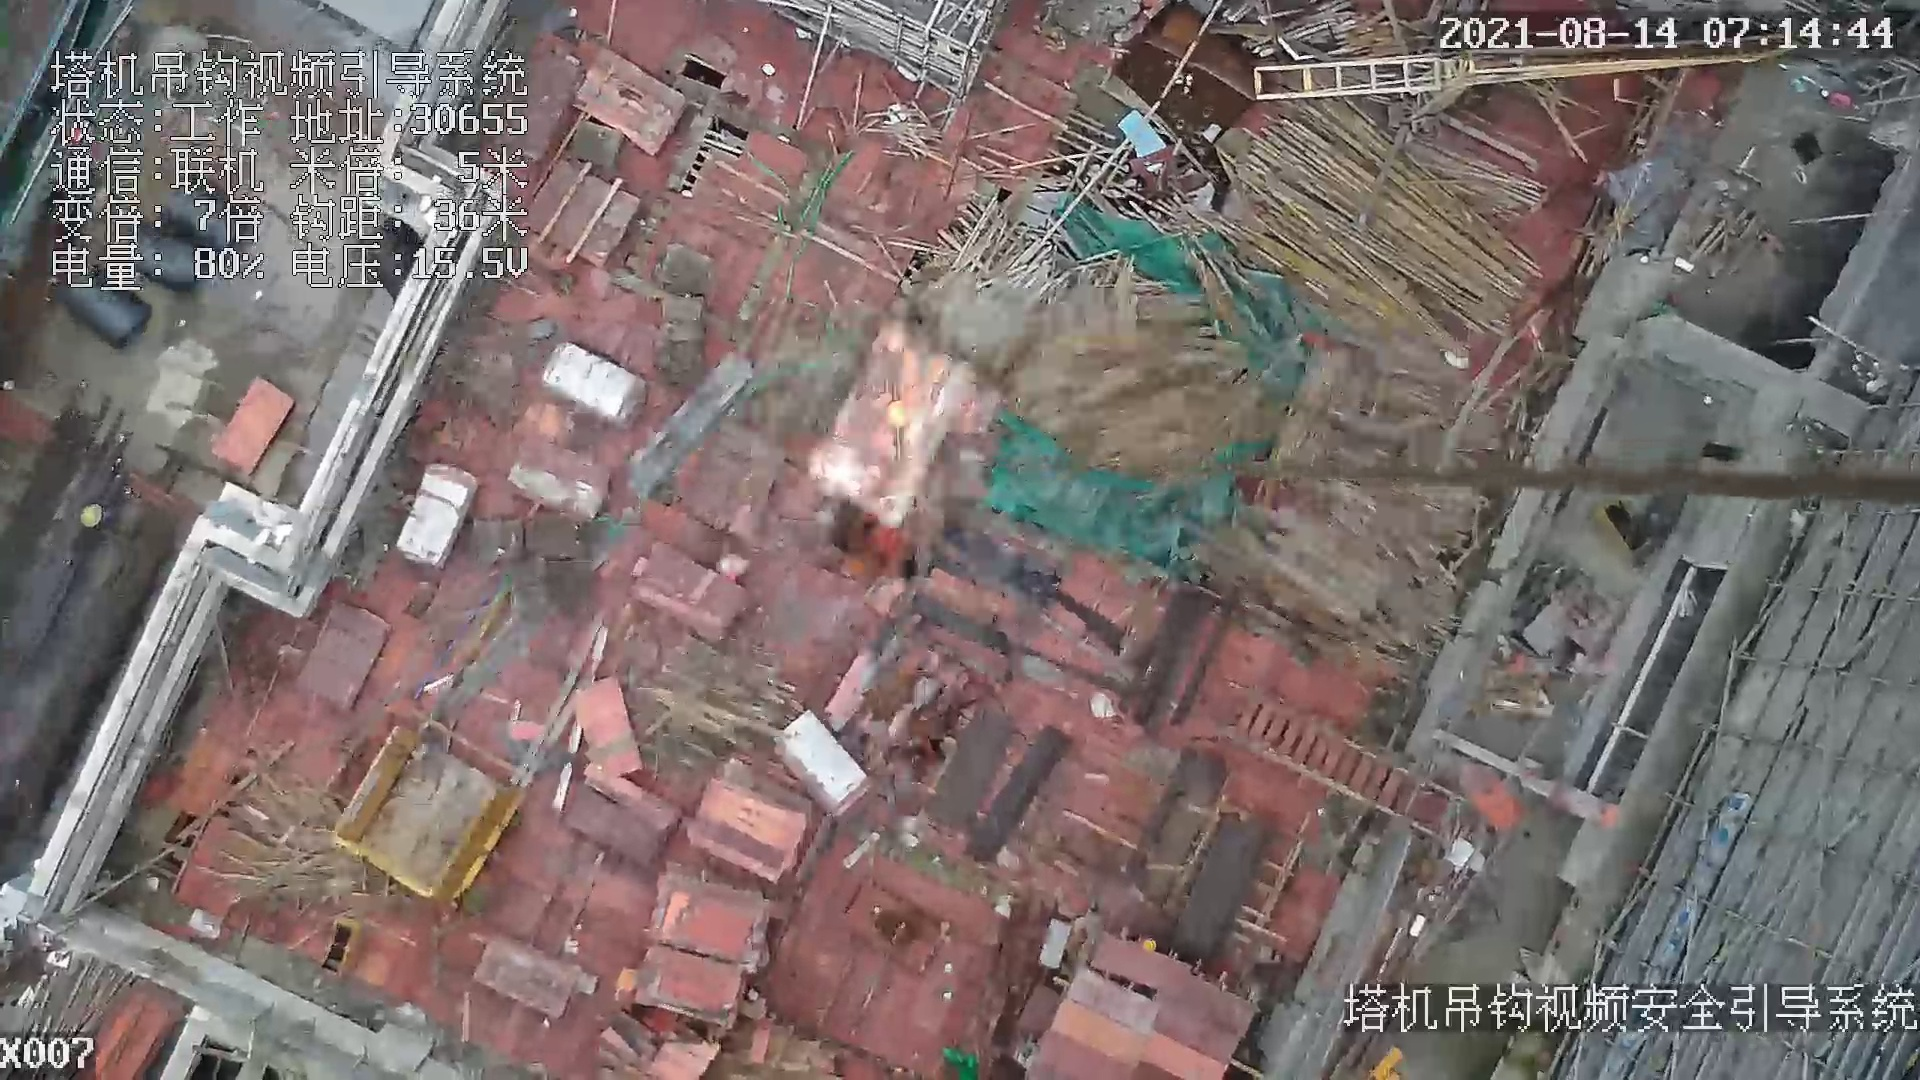hook: (885, 371, 914, 464)
